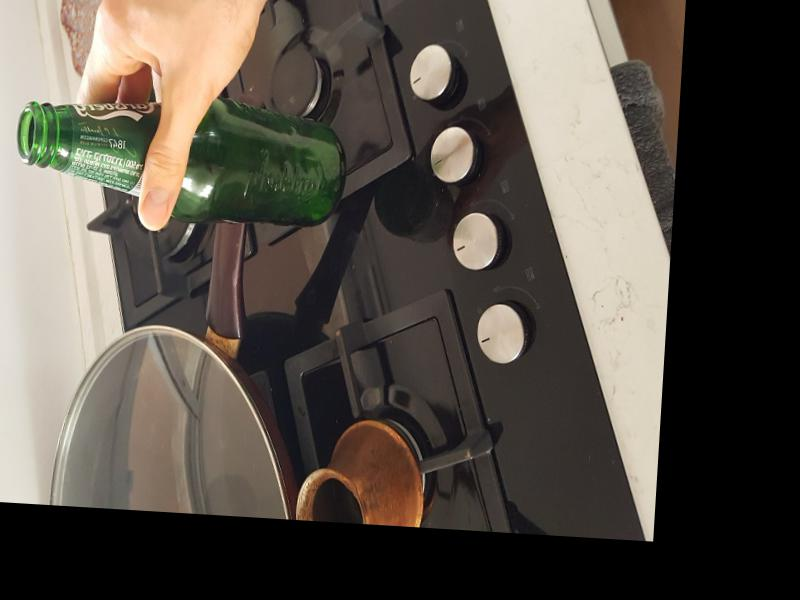Beer: (16, 99, 348, 228)
